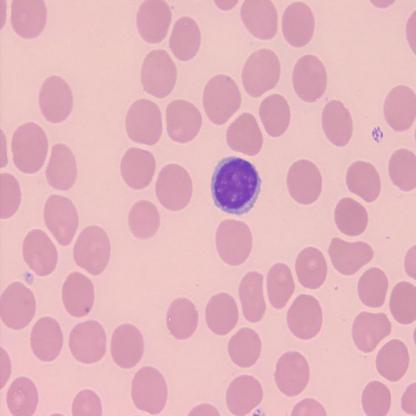Lymphocyte: (211, 155, 261, 216)
